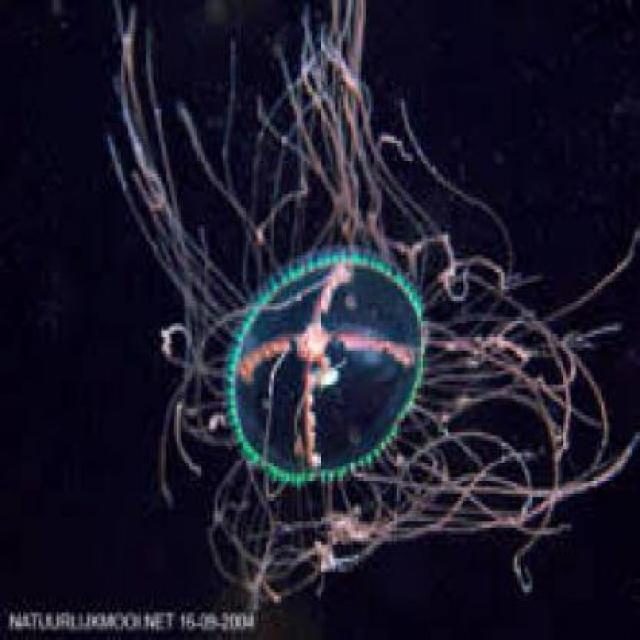Jellyfish: (102, 14, 630, 603)
